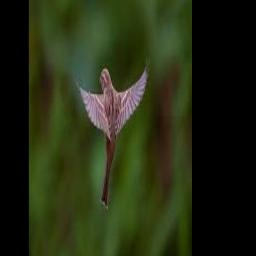Sparrow: (74, 58, 150, 209)
